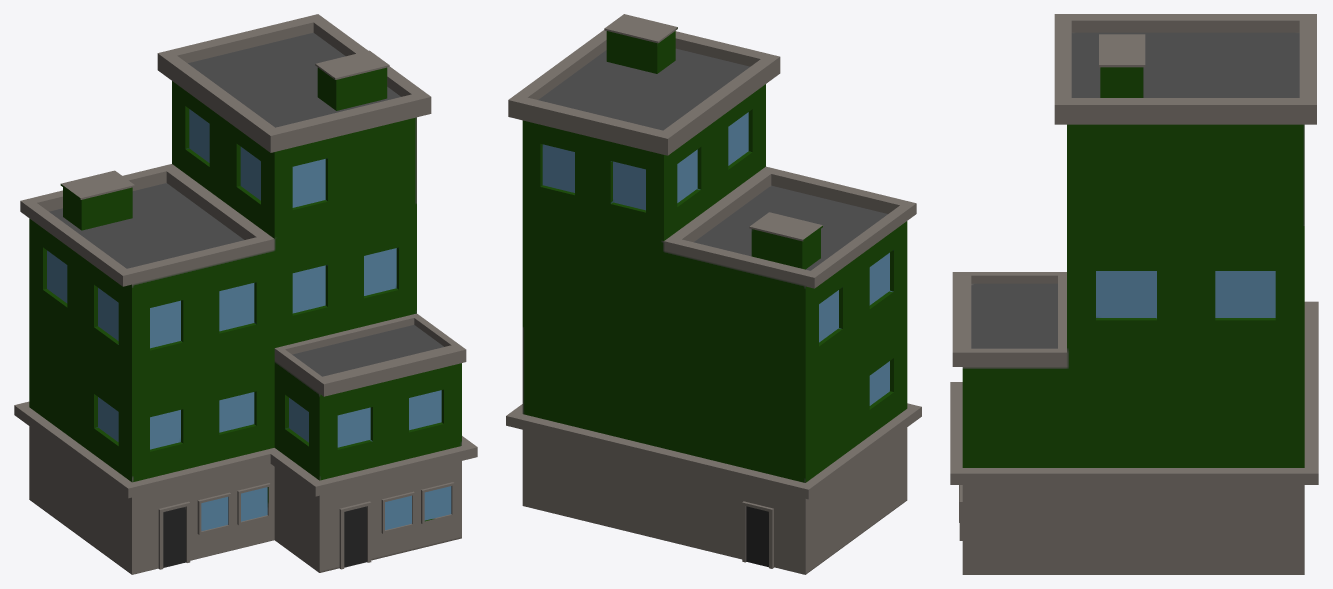
The model's file is CityBuilding11.glb.
3 renders of one model, left to right at view 1: azimuth 30°, elevation 25°; view 2: azimuth 150°, elevation 25°; view 3: azimuth 270°, elevation 25°, orthographic. The views are drawn at different scales.
Visible parts, largest first — view 1: CityBuilding11; view 2: CityBuilding11; view 3: CityBuilding11.
Boxes of the visible parts, x1,y1,x2,y2 form: CityBuilding11: (14,14,477,574); CityBuilding11: (506,14,921,574); CityBuilding11: (950,14,1318,574).
Size of what is drawn, in the model's own units: 10.15 by 13.82 by 9.18.
Materials: 1 (1 with a texture image).
